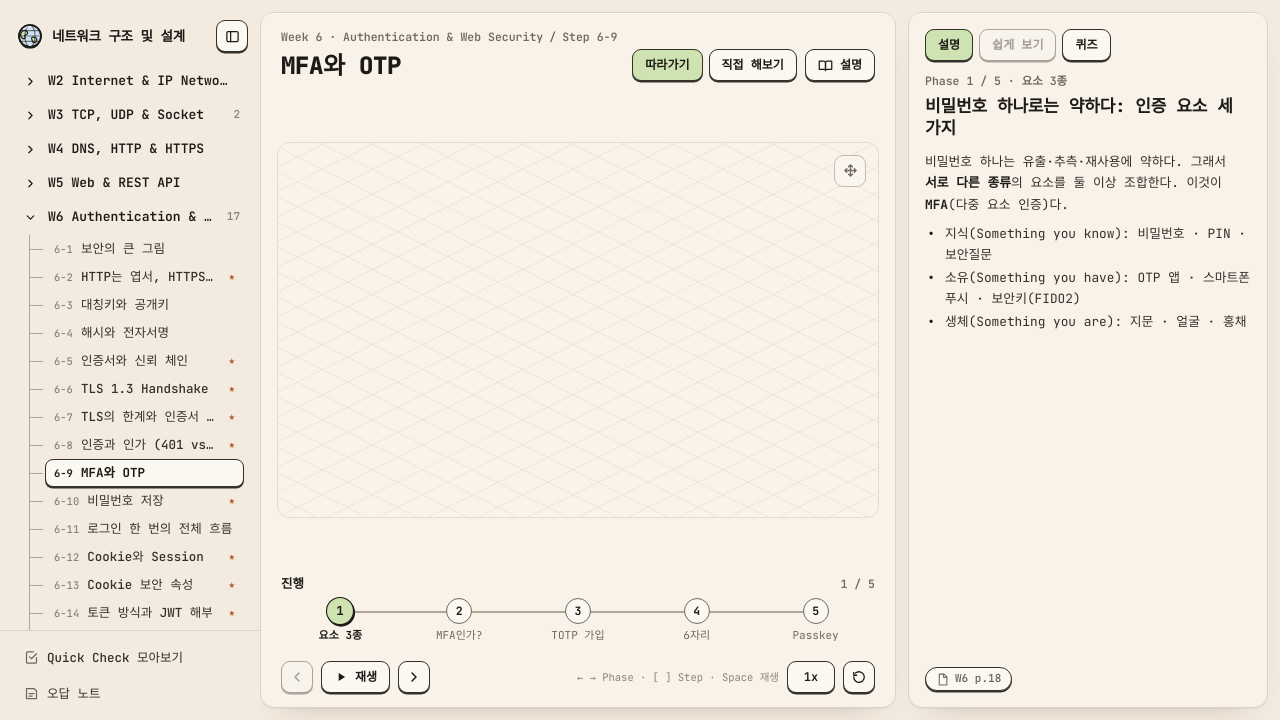
Scenario: 6-9 MFA와 OTP › 직접 해보기: 앱과 서버 코드가 같고, 앱 시계를 30초 넘게 어긋나게 하면 달라진다
Click the button "직접 해보기": (753, 65) [708,49,797,81]
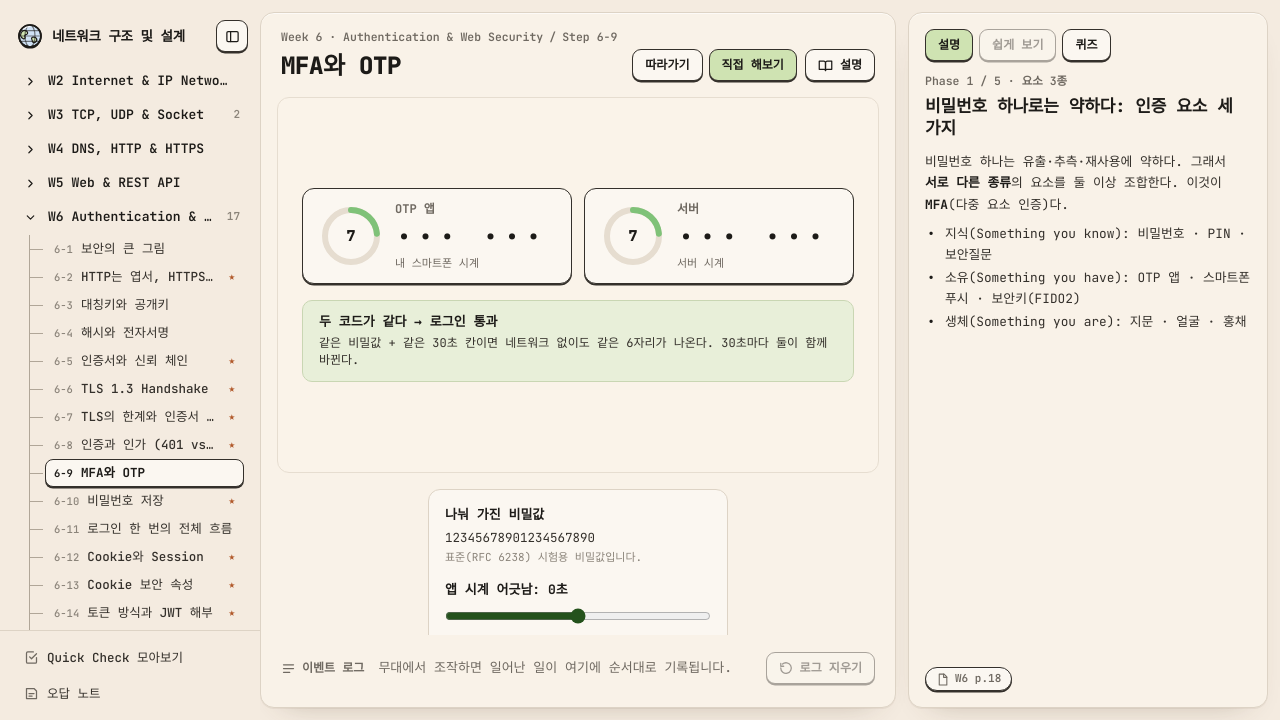
Check: the text "두 코드가 같다 → 로그인 통과" is shown, box [319,313,497,330]
Set the slider labelled "앱 시계 어긋남: 0초" to "60": (661, 616) [445,608,711,624]
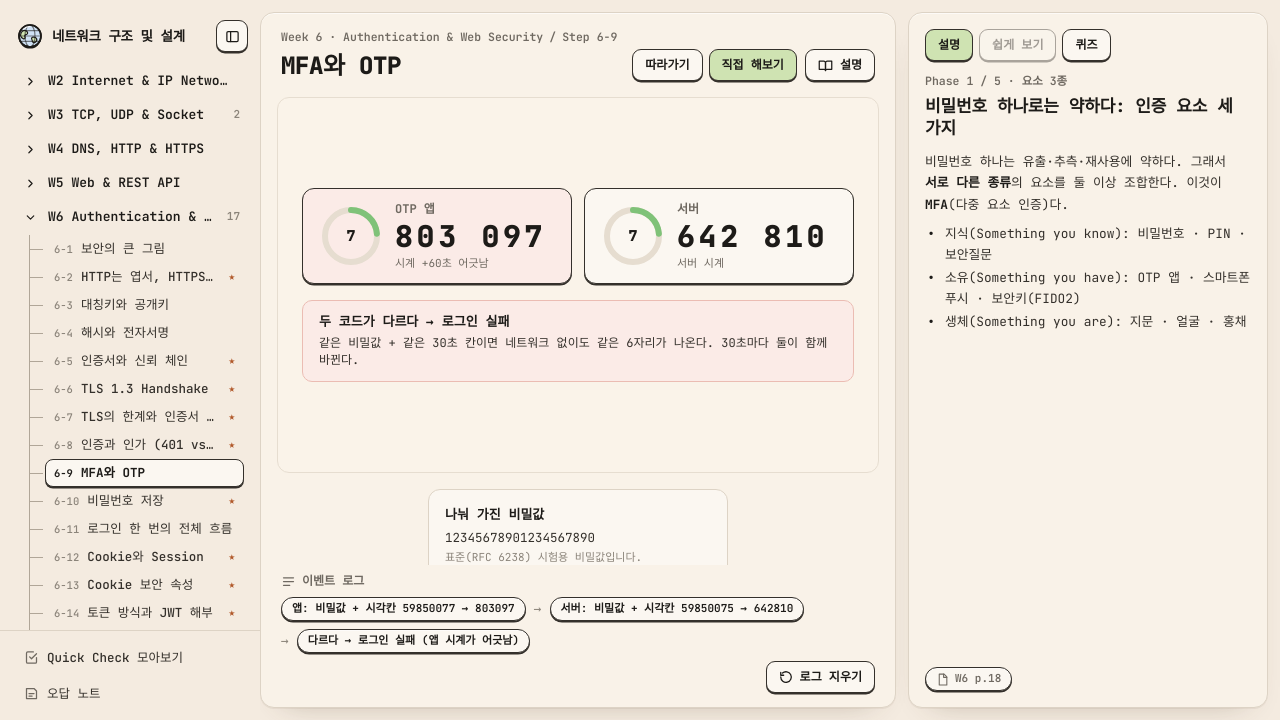
Check: the text "두 코드가 다르다 → 로그인 실패" is shown, box [319,313,509,330]
